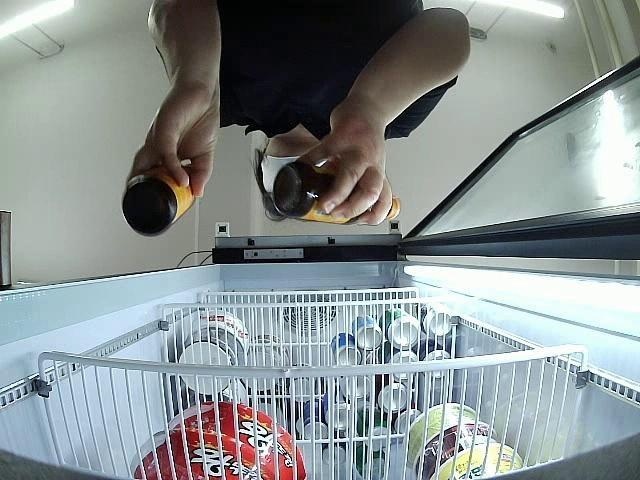17_vita500: (272, 162, 403, 228), (120, 160, 197, 236)
